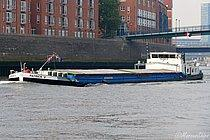Ship: (6, 49, 206, 90)
